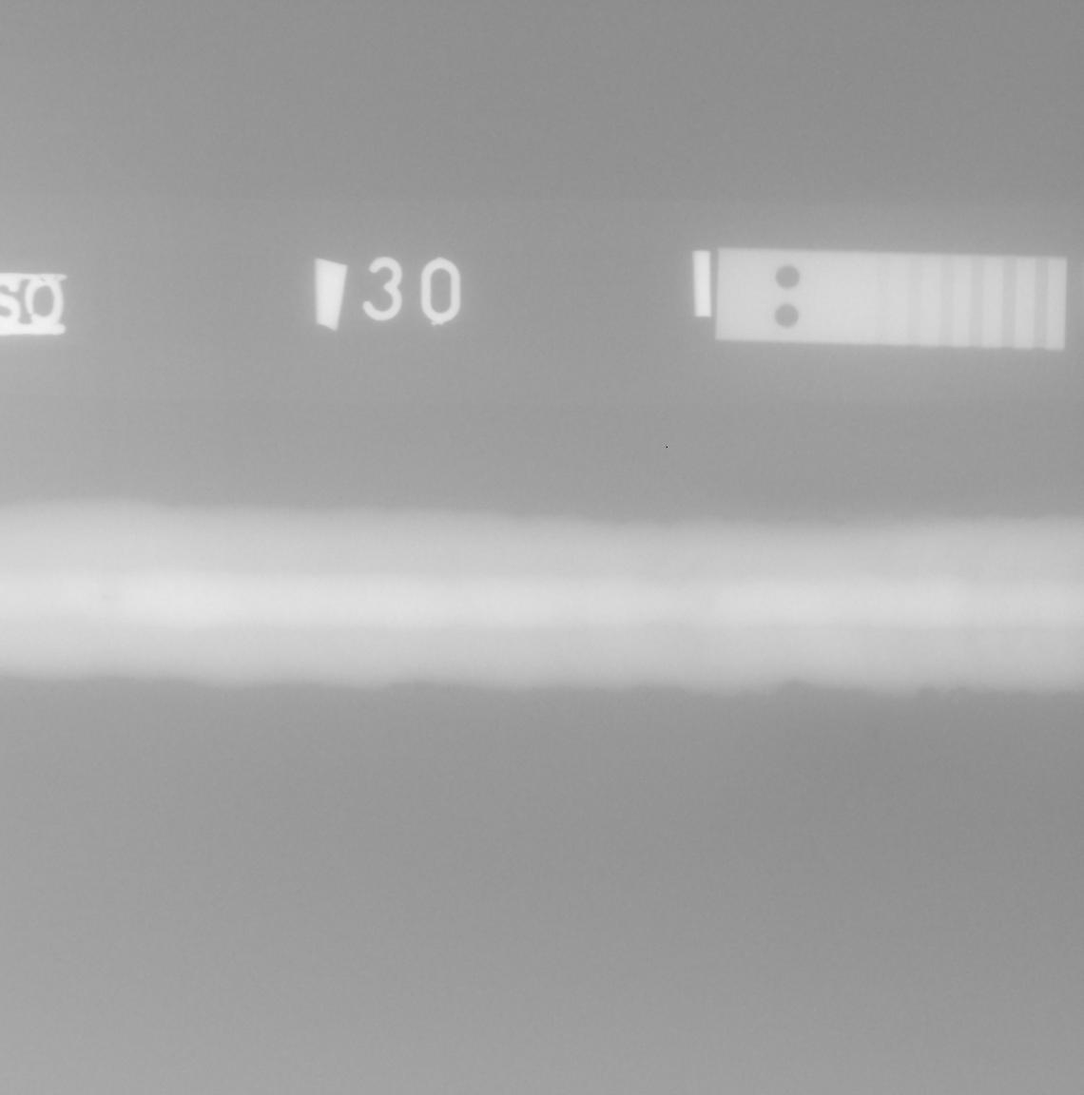Pore/Porosity: (102, 595, 109, 599)
Reference Standard 2: (716, 248, 1068, 350)
